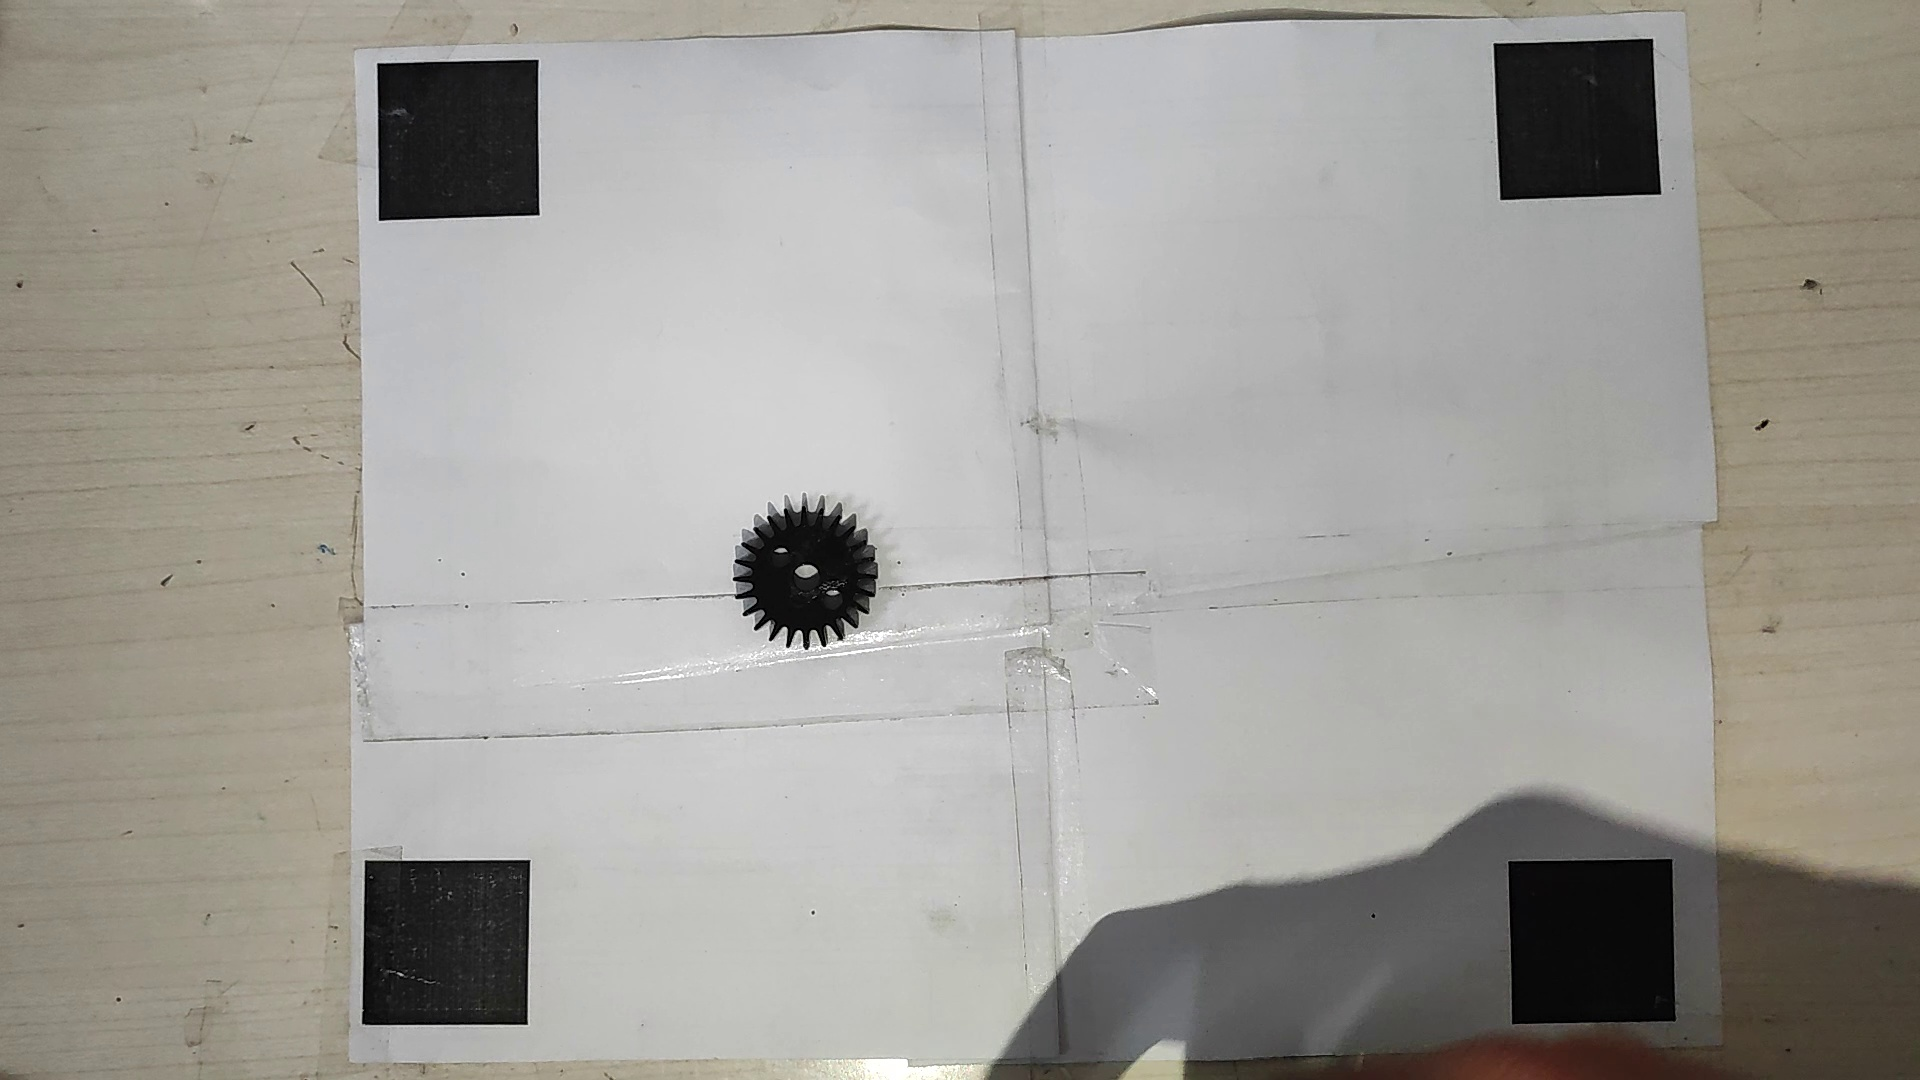Gear: (728, 492, 881, 647)
